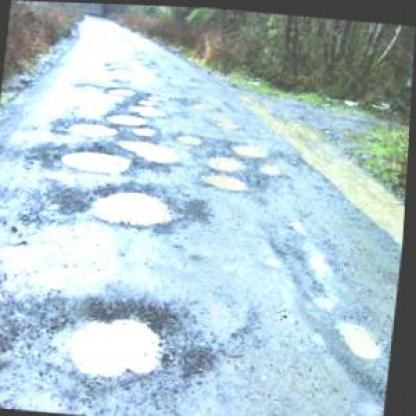pothole: (69, 291, 186, 386), (90, 183, 179, 227), (336, 310, 392, 356), (60, 146, 137, 173), (201, 166, 255, 190), (68, 118, 122, 139), (106, 108, 152, 126), (208, 151, 247, 171), (129, 101, 169, 115), (233, 139, 270, 154), (174, 129, 206, 143), (259, 158, 286, 172), (108, 83, 137, 96)
